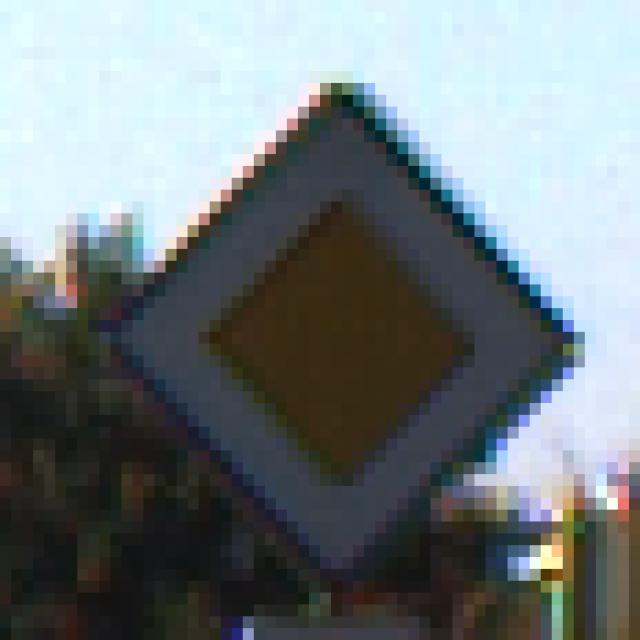Main Road: (67, 60, 575, 582)
